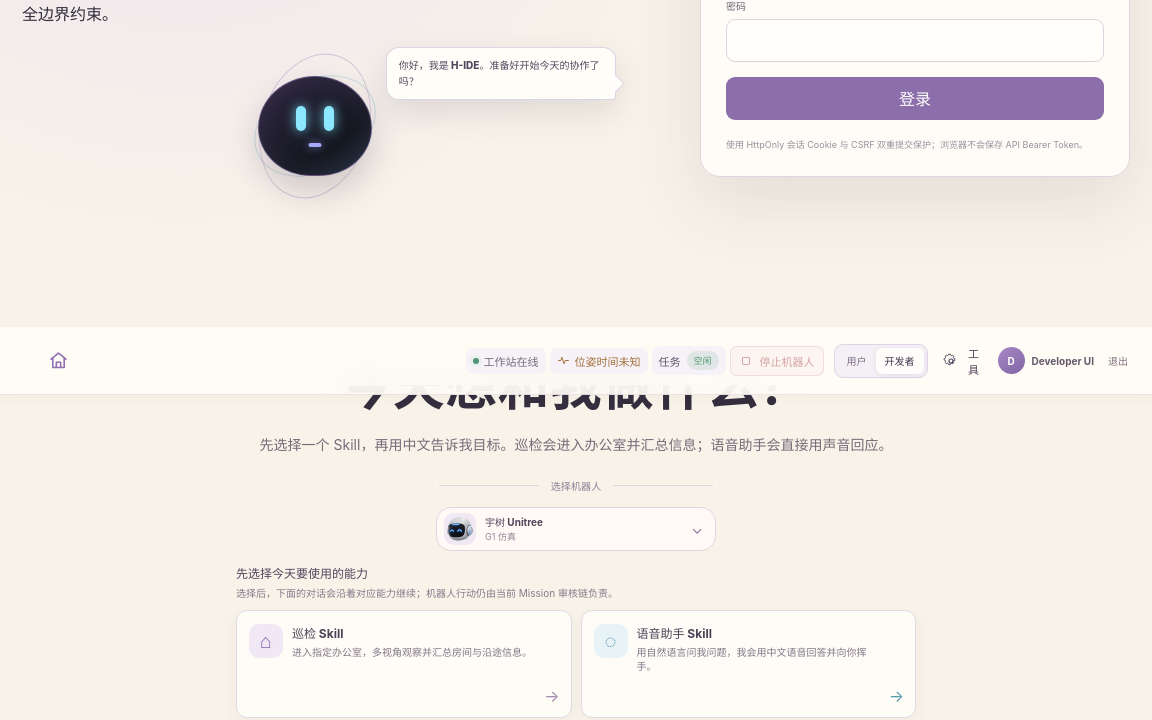
Scenario: control console › shows interface center and protects activation behind validation/probe
(page scrolled)
Click the button with aria-label "打开工具" at [962, 360], box [934,342,992,380]
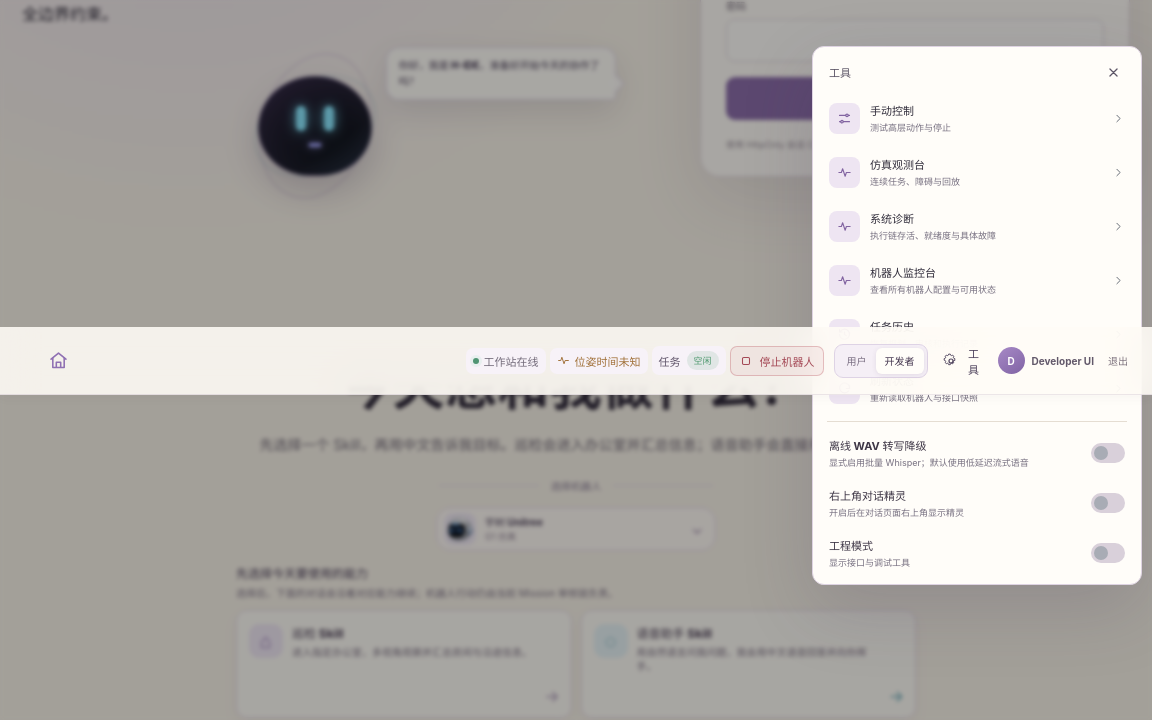
Click the checkbox labelled "工程模式 显示接口与调试工具" at [851, 546], box [820,529,1134,577]
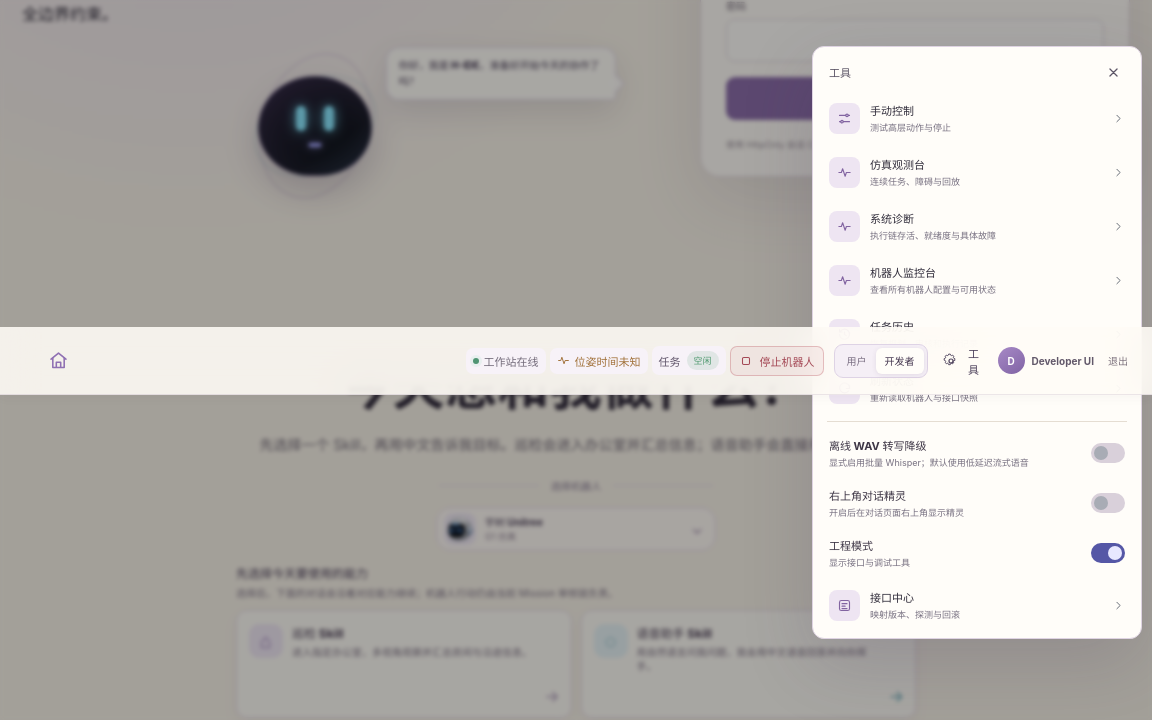
Click the button "接口中心 映射版本、探测与回滚" at [844, 605], box [820,579,1134,631]
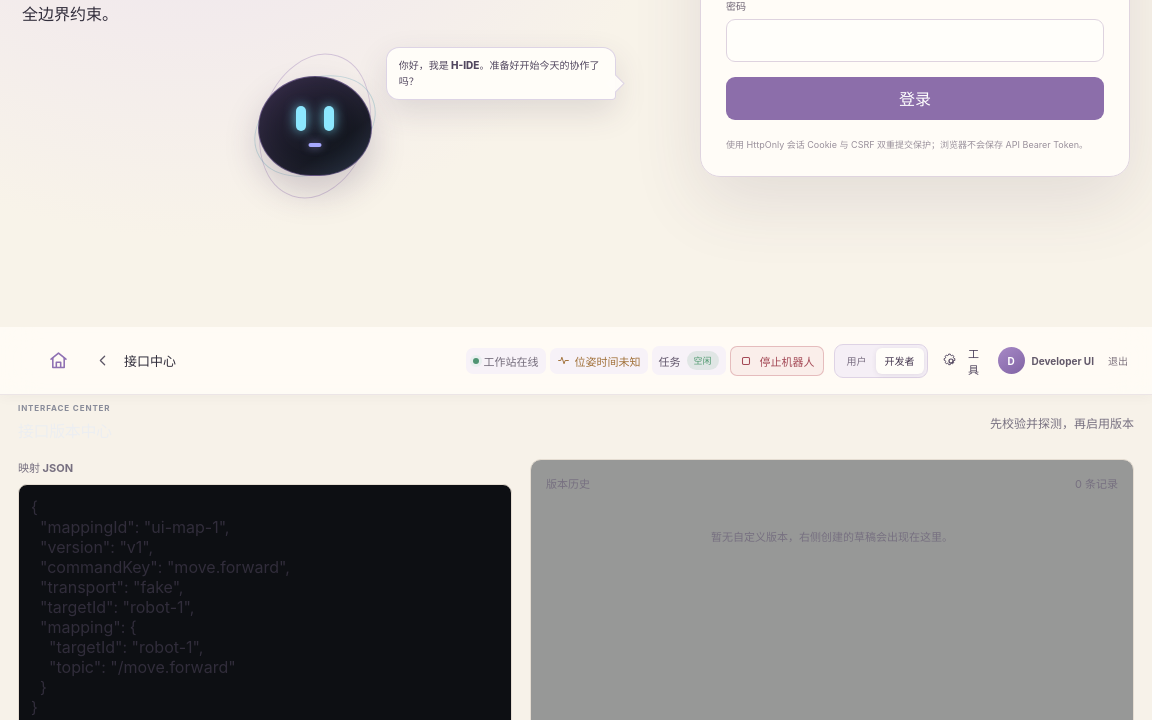
Expected: the text "先校验并探测，再启用版本" is shown, [990,414,1134,431]
